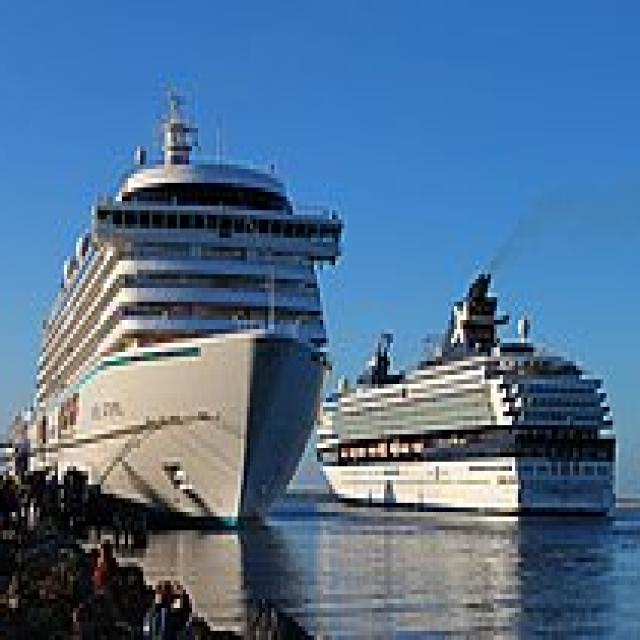Cruise: (24, 73, 353, 530), (317, 265, 622, 521)
